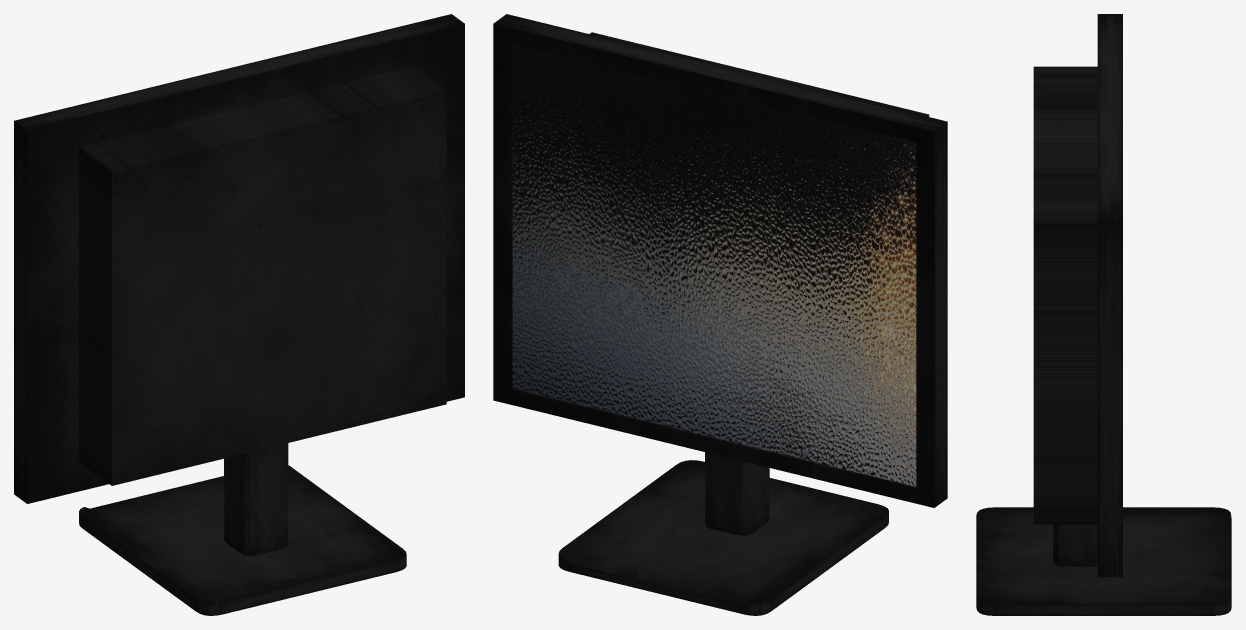
The model's file is Computador2.FBX.
The picture shows the model from 3 angles, left to right: view 1: azimuth 30°, elevation 25°; view 2: azimuth 150°, elevation 25°; view 3: azimuth 270°, elevation 25°; orthographic projection. The views are drawn at different scales.
Parts seen in each view (by area): view 1: Box001, Base, Apoyo; view 2: Box001, Base, Apoyo; view 3: Box001, Base, Apoyo.
Boxes of the visible parts, left/top/right/bottom form: Box001: left=14, top=14, right=464, bottom=503; Base: left=79, top=465, right=406, bottom=615; Apoyo: left=224, top=443, right=288, bottom=555; Box001: left=493, top=14, right=947, bottom=507; Base: left=558, top=460, right=888, bottom=615; Apoyo: left=705, top=452, right=769, bottom=535; Box001: left=1033, top=14, right=1122, bottom=577; Base: left=976, top=507, right=1231, bottom=615; Apoyo: left=1053, top=524, right=1097, bottom=566.
Size of the model in its own units: 14.96 by 15.35 by 7.87.
Materials: 2 (2 with a texture image).
